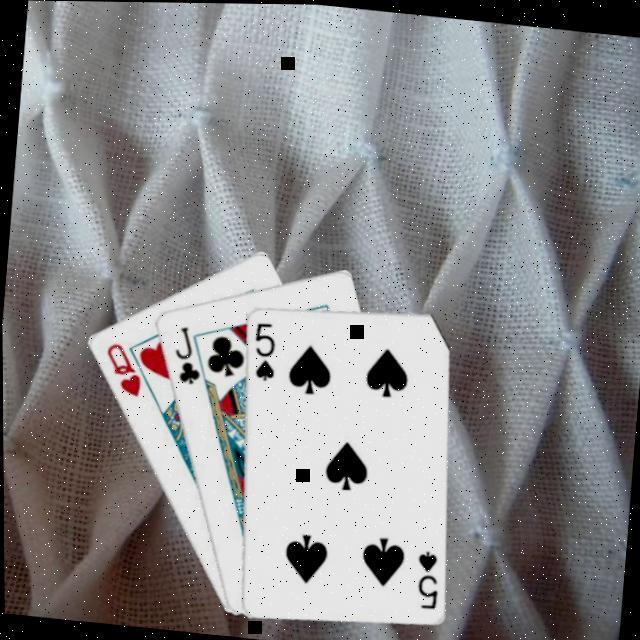5S: (407, 542, 440, 608), (245, 315, 277, 381)
JC: (165, 318, 203, 385)
QH: (96, 336, 144, 398)
